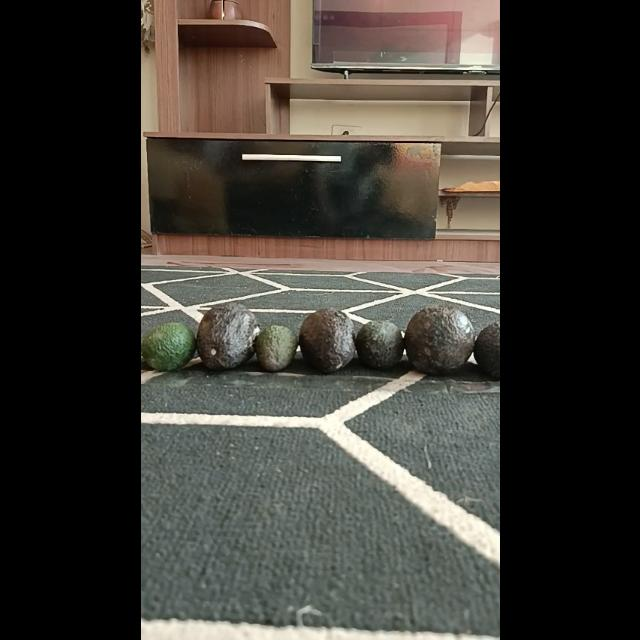Primera: (402, 304, 474, 374), (196, 302, 260, 370), (298, 308, 356, 372)
Segunda: (140, 322, 196, 372), (354, 320, 404, 368)
Tercera: (254, 324, 296, 372)
